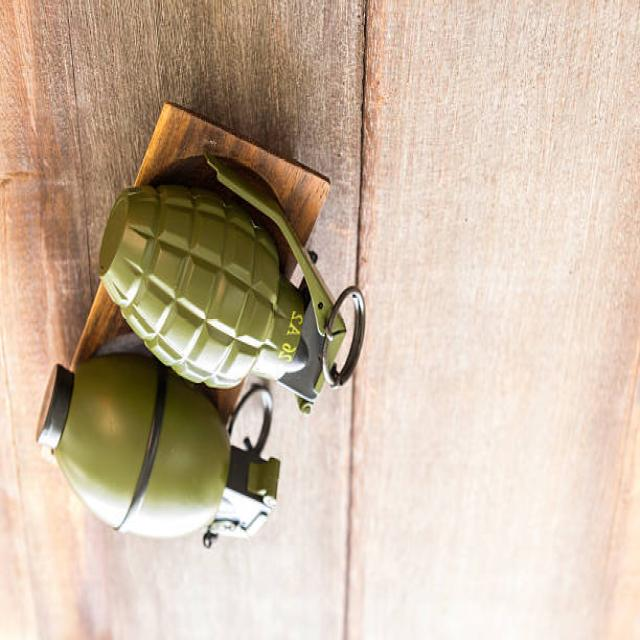grenade: (99, 154, 372, 420), (36, 353, 292, 555)
